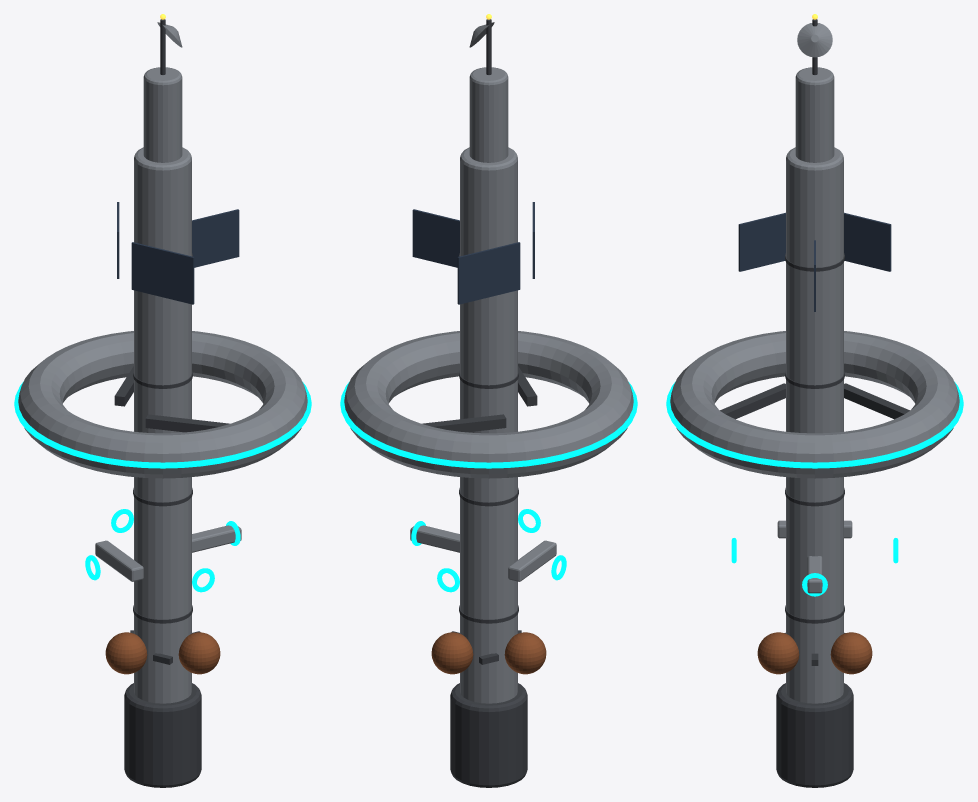
The model's file is port.glb.
3 views of the same model, side by side, from view 1: azimuth 30°, elevation 25°; view 2: azimuth 150°, elevation 25°; view 3: azimuth 270°, elevation 25° (orthographic).
Parts seen in each view (by area): view 1: spine_core, hab_ring, spine_base, spine_top, radiator_1, ring_windows, radiator_0, tank_2, tank_1, dock_arm_2, dock_arm_1, ring_spoke_3; view 2: spine_core, hab_ring, spine_base, spine_top, radiator_2, ring_windows, radiator_0, tank_0, tank_1, ring_spoke_2, dock_arm_0, dock_arm_1; view 3: spine_core, hab_ring, spine_base, spine_top, ring_windows, radiator_1, radiator_2, tank_0, tank_2, comm_dish, ring_spoke_0, ring_spoke_1.
Part boxes in pixels (box(x1,y1,x2,y2)): spine_core: box(134, 147, 191, 703); hab_ring: box(18, 331, 307, 478); spine_base: box(124, 683, 201, 787); spine_top: box(143, 67, 182, 162); radiator_1: box(131, 242, 194, 304); ring_windows: box(14, 381, 311, 468); radiator_0: box(192, 209, 239, 267); tank_2: box(178, 632, 220, 674); tank_1: box(105, 632, 147, 674); dock_arm_2: box(192, 525, 241, 552); dock_arm_1: box(95, 543, 143, 581); ring_spoke_3: box(145, 418, 217, 432); spine_core: box(460, 147, 517, 703); hab_ring: box(344, 331, 633, 478); spine_base: box(450, 683, 527, 787); spine_top: box(469, 67, 508, 162); radiator_2: box(457, 242, 520, 304); ring_windows: box(340, 381, 637, 468); radiator_0: box(412, 209, 459, 267); tank_0: box(431, 632, 473, 674); tank_1: box(504, 632, 546, 674); ring_spoke_2: box(422, 414, 506, 432); dock_arm_0: box(410, 525, 459, 552); dock_arm_1: box(508, 543, 556, 581); spine_core: box(786, 147, 843, 703); hab_ring: box(670, 331, 959, 478); spine_base: box(776, 683, 853, 787); spine_top: box(795, 67, 834, 162); ring_windows: box(666, 381, 963, 468); radiator_1: box(738, 212, 785, 271); radiator_2: box(844, 212, 891, 271); tank_0: box(830, 632, 872, 674); tank_2: box(757, 632, 799, 674); comm_dish: box(797, 23, 832, 57); ring_spoke_0: box(844, 389, 907, 419); ring_spoke_1: box(720, 389, 785, 419).
Size of the model in its own units: 0.023 by 0.0647 by 0.023.
